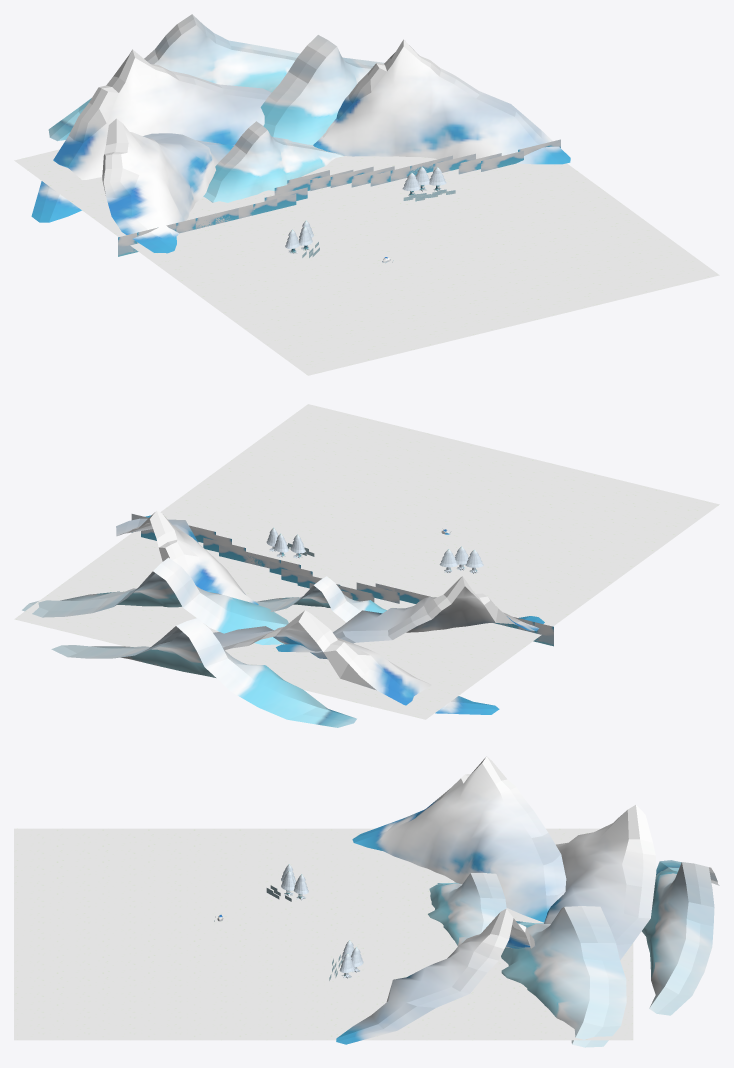
Rendered from 323_bg_grassD.fbx.
3 renders of one model, top to bottom at view 1: azimuth 30°, elevation 25°; view 2: azimuth 150°, elevation 25°; view 3: azimuth 270°, elevation 25°, orthographic. The views are drawn at different scales.
Parts seen in each view (by area): view 1: ground, polySurface1, polySurface17, polySurface18, polySurface19, polySurface20, polySurface16; view 2: ground, polySurface20, polySurface19, polySurface17, polySurface18, polySurface1, polySurface16; view 3: ground, polySurface18, polySurface19, polySurface17, polySurface20, polySurface1, polySurface16.
Part boxes in pixels (x1,y1,x2,y2): ground: (14, 149, 719, 375); polySurface1: (313, 39, 570, 164); polySurface17: (31, 49, 271, 222); polySurface18: (102, 118, 233, 253); polySurface19: (260, 35, 384, 144); polySurface20: (48, 14, 300, 141); polySurface16: (203, 121, 343, 202); ground: (14, 404, 719, 719); polySurface20: (51, 618, 356, 727); polySurface19: (22, 557, 288, 644); polySurface17: (213, 610, 499, 714); polySurface18: (276, 576, 544, 652); polySurface1: (116, 510, 258, 604); polySurface16: (255, 576, 386, 622); ground: (14, 828, 633, 1040); polySurface18: (352, 756, 566, 922); polySurface19: (501, 906, 626, 1047); polySurface17: (544, 805, 656, 960); polySurface20: (642, 860, 719, 1015); polySurface1: (336, 908, 535, 1044); polySurface16: (428, 873, 506, 945).
Bounding box in the file's own units: 5571 × 1254 × 7272.
